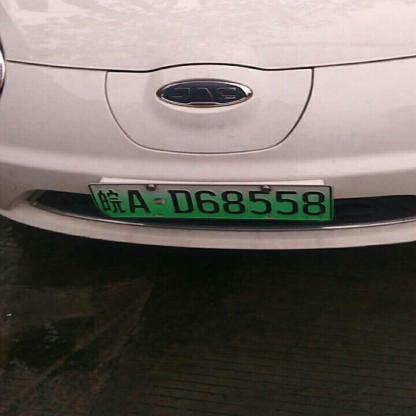lp: (89, 185, 331, 219)
